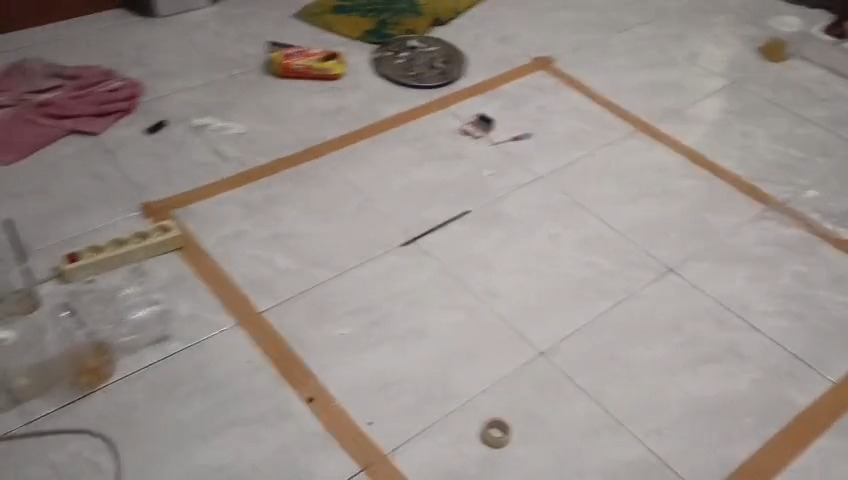floor marking: (142, 56, 847, 254), (182, 229, 405, 479), (728, 374, 847, 479)
